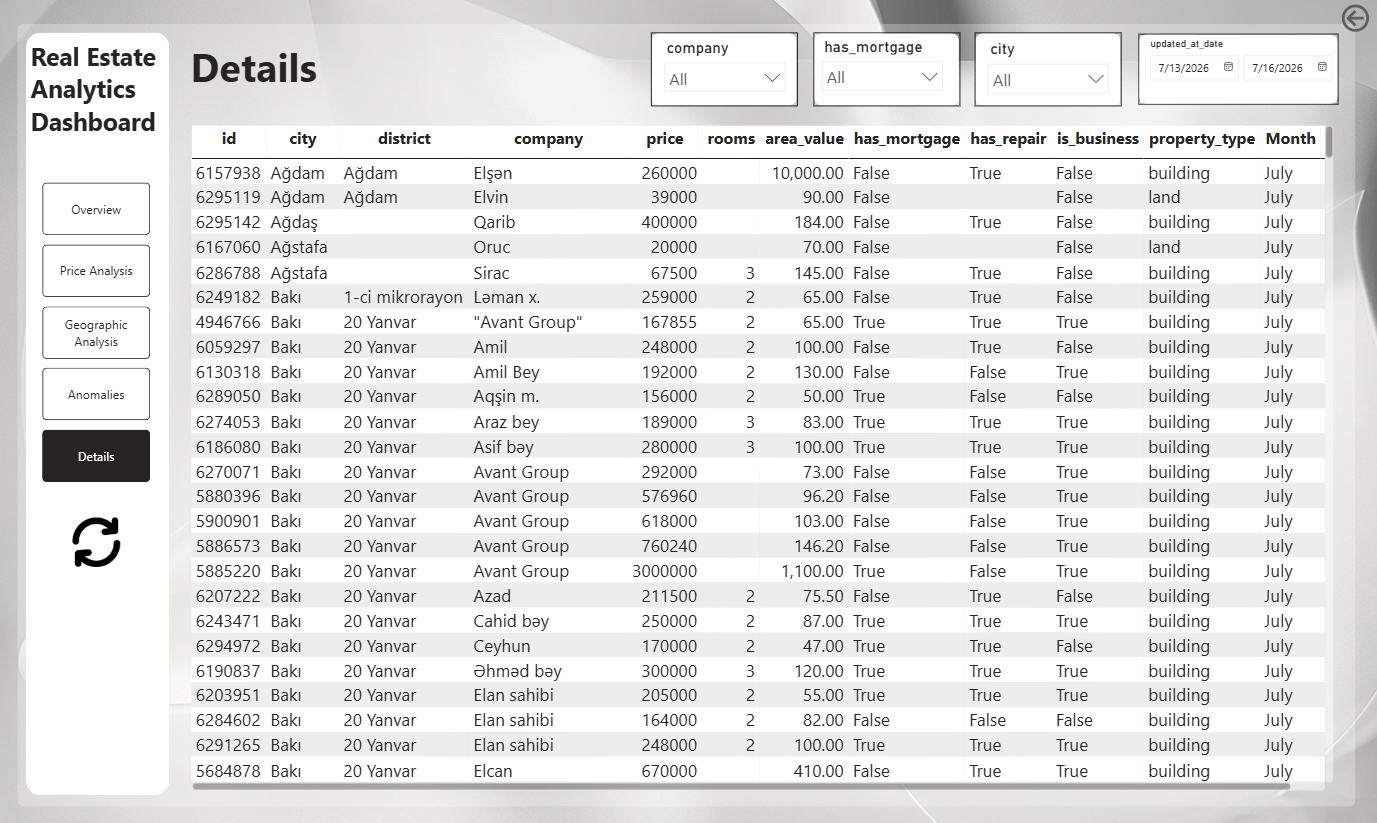

This screenshot's page, from the dashboard's own definition file:
{"tool":"powerbi","page":{"name":"Details","canvas":[1500,900],"ordinal":4},"visuals":[{"type":"shape","box":[23.2,25.9,1451.2,848.9],"z":0},{"type":"shape","box":[32.7,35.4,155.3,827.1],"z":1000},{"type":"textbox","box":[205.4,38,223.7,68.9],"z":2000},{"type":"shape","box":[1061,35.2,159,80.2],"z":3000},{"type":"shape","box":[886.5,35.2,159,80.2],"z":4000},{"type":"shape","box":[710.6,35.2,159,80.2],"z":5000},{"type":"shape","box":[1238.2,37,217.1,77.2],"z":6000},{"type":"slicer","fields":{"Values":["listings.city"]},"box":[1065.2,38,152,77.4],"z":7000},{"type":"slicer","fields":{"Values":["listings.updated_at_date"]},"box":[1238.2,35.4,217.1,80.4],"z":8000},{"type":"slicer","fields":{"Values":["listings.has_mortgage"]},"box":[885.1,35.2,152,77.4],"z":9000},{"type":"slicer","fields":{"Values":["listings.company"]},"box":[714.8,36.6,152,77.4],"z":10000},{"type":"textbox","box":[32.4,38,173.1,128],"z":11000},{"type":"tableEx","fields":{"Values":["listings.id","listings.city","listings.district","listings.company","listings.price","listings.rooms","listings.area_value","listings.has_mortgage","listings.has_repair","listings.is_business","listings.property_type","listings.updated_at_date.Variation.Date Hierarchy.Month"]},"box":[205.4,132.1,1248.9,730.4],"z":12000},{"type":"actionButton","box":[1455,0,45,39.4],"z":13000},{"type":"pageNavigator","box":[50.4,197.6,117.2,329.8],"z":14000},{"type":"image","box":[73.4,560.9,71.7,53.8],"z":15000}]}

Visuals, with their boxes on the page's 1500x900 design canvas (x1, y1, x2, y2). These are canvas units, not pixel positions in the 1377x823 screenshot, which may show the page scaled, cropped or inside an application window:
shape: x1=23 y1=26 x2=1474 y2=875
shape: x1=33 y1=35 x2=188 y2=862
textbox: x1=205 y1=38 x2=429 y2=107
shape: x1=1061 y1=35 x2=1220 y2=115
shape: x1=886 y1=35 x2=1046 y2=115
shape: x1=711 y1=35 x2=870 y2=115
shape: x1=1238 y1=37 x2=1455 y2=114
slicer - listings.city: x1=1065 y1=38 x2=1217 y2=115
slicer - listings.updated_at_date: x1=1238 y1=35 x2=1455 y2=116
slicer - listings.has_mortgage: x1=885 y1=35 x2=1037 y2=113
slicer - listings.company: x1=715 y1=37 x2=867 y2=114
textbox: x1=32 y1=38 x2=206 y2=166
tableEx - listings.id x listings.city: x1=205 y1=132 x2=1454 y2=862
actionButton: x1=1455 y1=0 x2=1500 y2=39
pageNavigator: x1=50 y1=198 x2=168 y2=527
image: x1=73 y1=561 x2=145 y2=615
